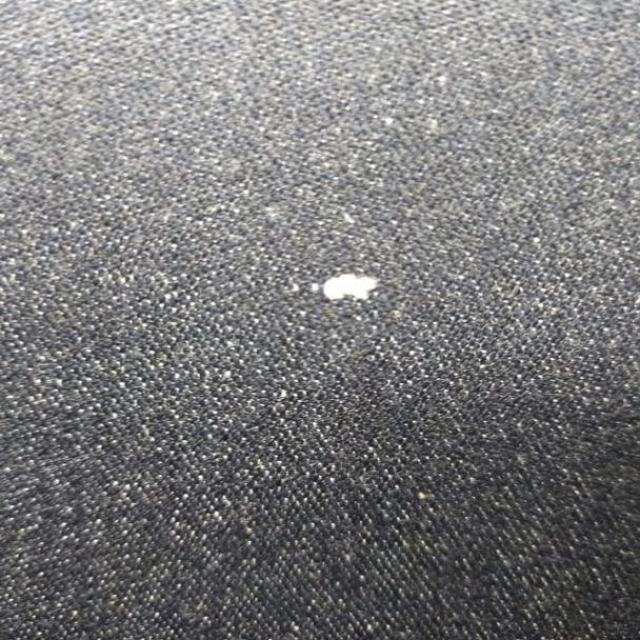Knot: (323, 275, 380, 300)
